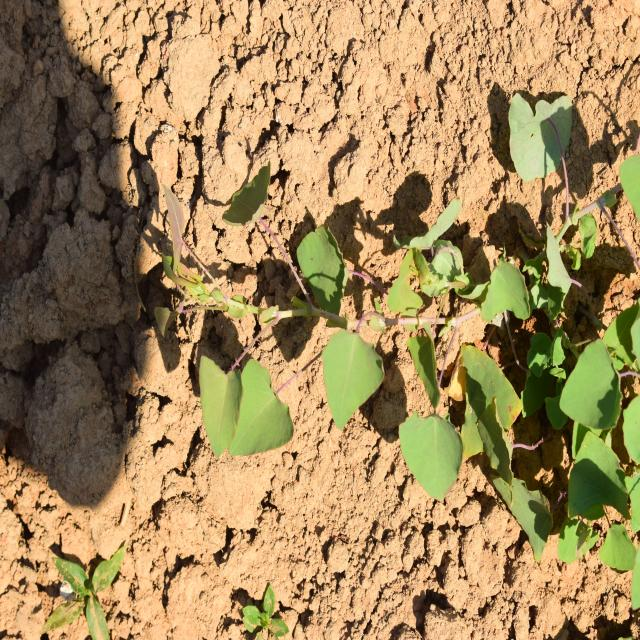Asiatic_Smartweed: (306, 199, 462, 502), (165, 188, 304, 462)
